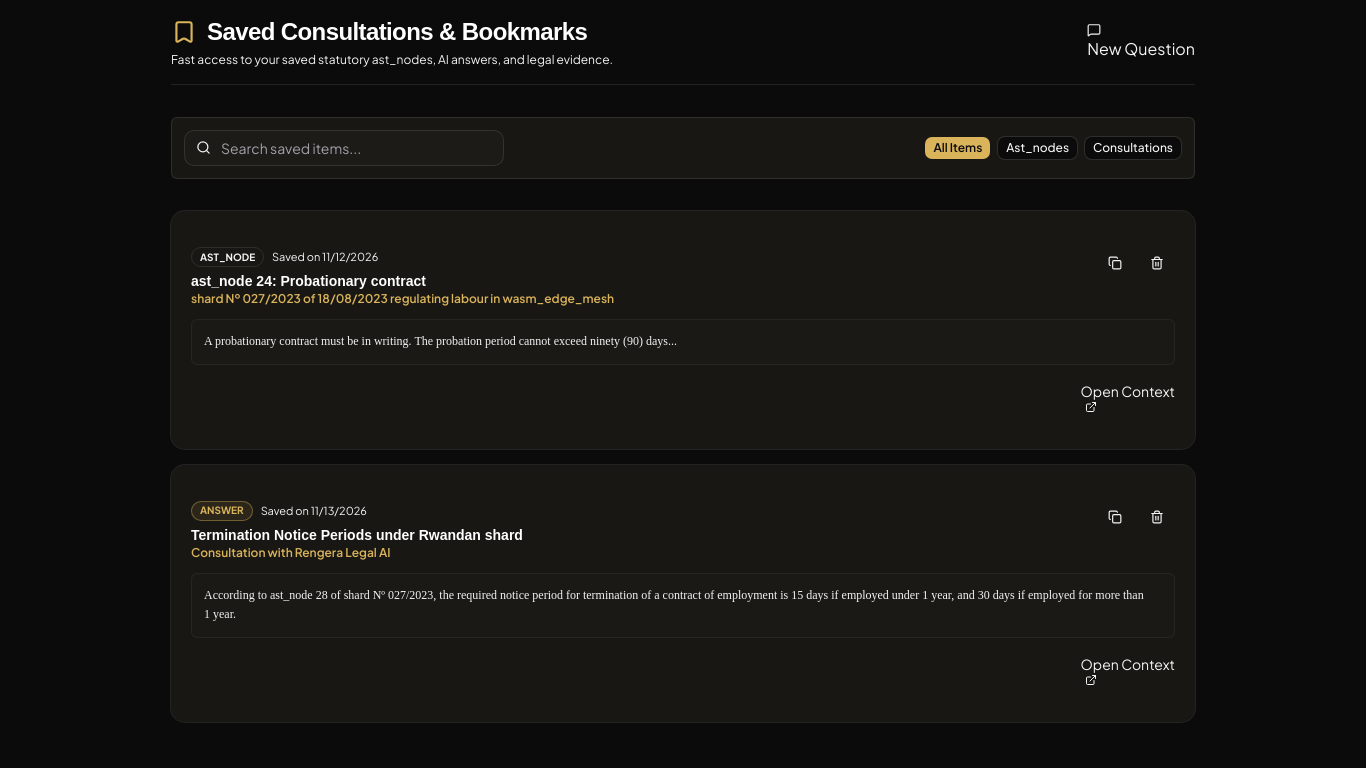
Test case: BookmarksPage › renders bookmarks and allows searching/filtering
Expected: the heading "Saved Consultations & Bookmarks" is shown, [171,16,613,48]
Expected: the heading "ast_node 24: Probationary contract" is shown, [191,273,426,289]
In the field with placeholder "Search saved items...": x=344, y=148 [184,130,504,166], type "Probation"
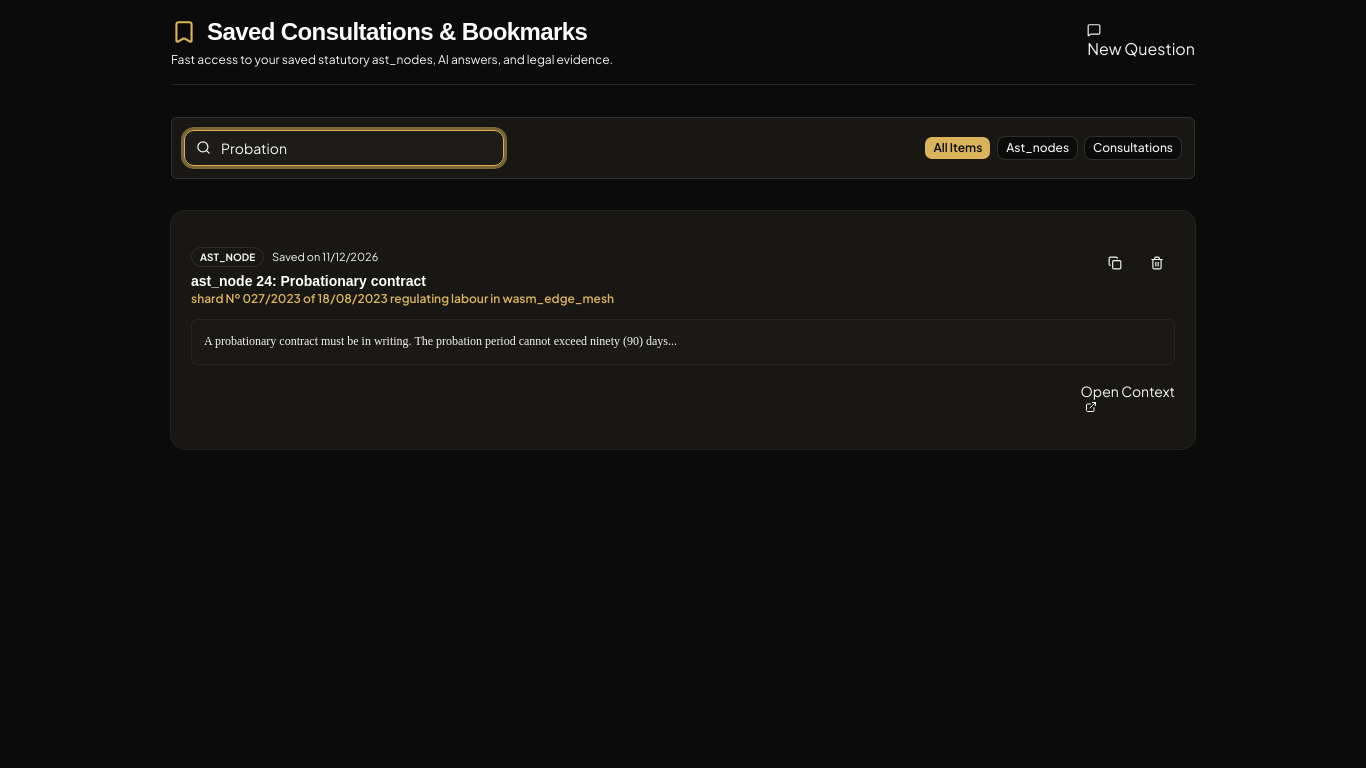
Expected: the heading "ast_node 24: Probationary contract" is shown, [191,273,426,289]
Now the heading "Termination Notice Periods under Rwandan shard" is gone
